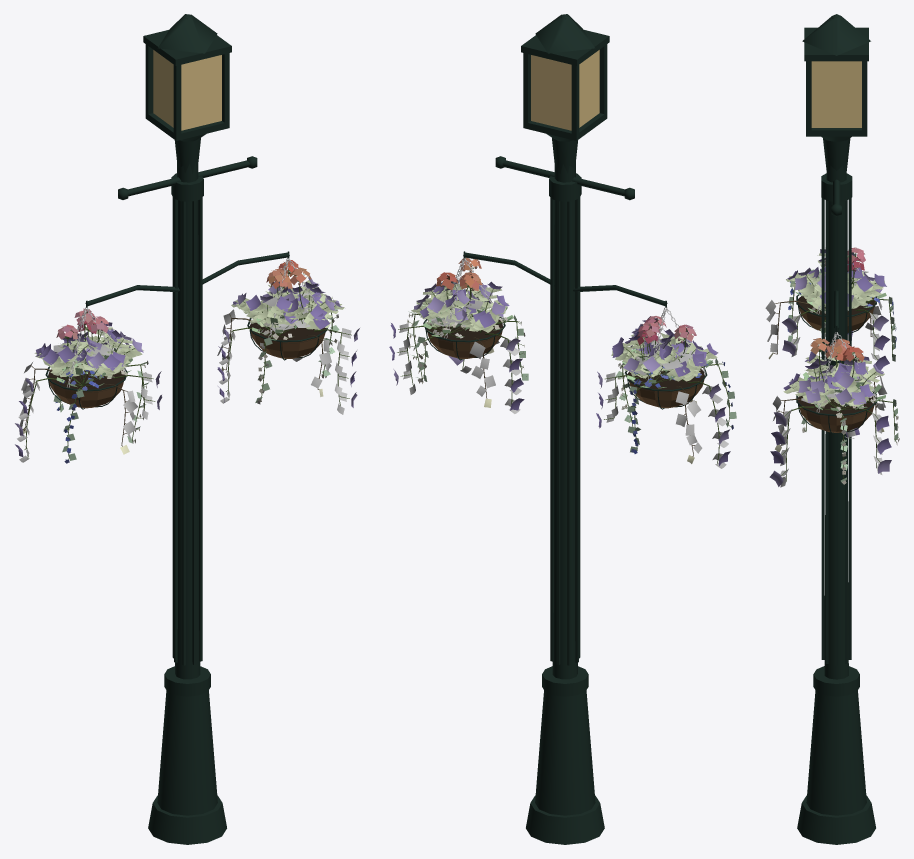
The model's file is street_lamp.glb.
The picture shows the model from 3 angles, left to right: view 1: azimuth 30°, elevation 25°; view 2: azimuth 150°, elevation 25°; view 3: azimuth 270°, elevation 25°; orthographic projection.
Parts seen in each view (by area): view 1: street_lamp; view 2: street_lamp; view 3: street_lamp.
Boxes of the visible parts, bbox=[...] form: street_lamp: bbox=[15, 14, 359, 844]; street_lamp: bbox=[389, 14, 736, 844]; street_lamp: bbox=[765, 14, 899, 844].
Bounding box in the file's own units: 1.6 × 3.86 × 0.5765.
